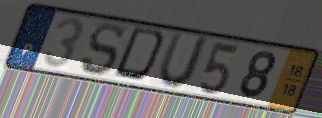3: (42, 16, 88, 72)
5: (195, 39, 244, 97)
8: (239, 50, 278, 100)
D: (110, 25, 170, 85)
S: (78, 22, 125, 79)
U: (155, 30, 212, 92)
